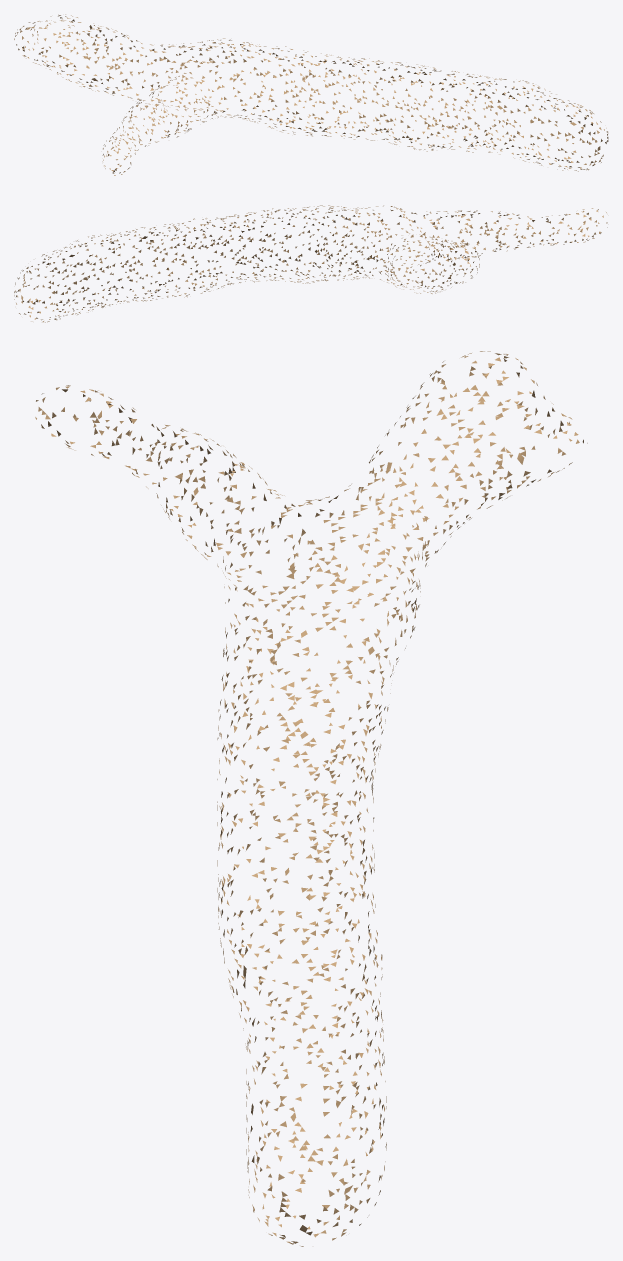
The model's file is morph_006.glb.
3 renders of one model, top to bottom at view 1: azimuth 30°, elevation 25°; view 2: azimuth 150°, elevation 25°; view 3: azimuth 270°, elevation 25°, orthographic. The views are drawn at different scales.
Bounding box in the file's own units: 122 × 48.33 × 55.43.
